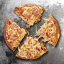pizza: (7, 3, 56, 60)
